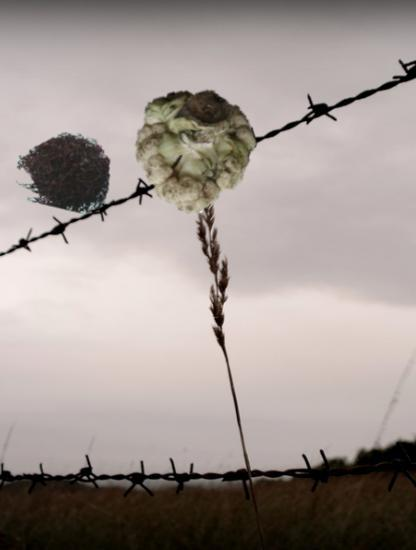Cauliflower: (132, 85, 259, 212)
Rambutan: (16, 120, 114, 218)
